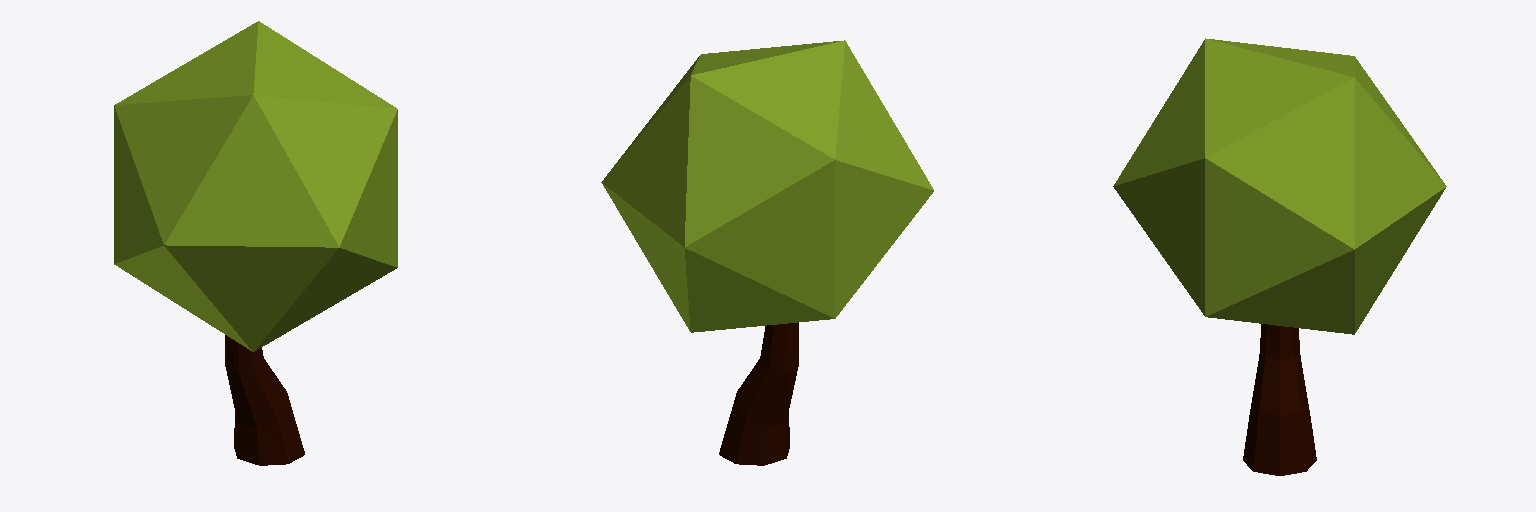
Rendered from Bush3.obj.
3 views of the same model, side by side, from view 1: azimuth 30°, elevation 25°; view 2: azimuth 150°, elevation 25°; view 3: azimuth 270°, elevation 25° (orthographic).
Visible parts, largest first — view 1: Bush3_Icosphere.004; view 2: Bush3_Icosphere.004; view 3: Bush3_Icosphere.004.
Part boxes in pixels (x1,y1,x2,y2): Bush3_Icosphere.004: (114, 21, 397, 465); Bush3_Icosphere.004: (601, 40, 933, 465); Bush3_Icosphere.004: (1113, 38, 1446, 475).
Size of the model in its own units: 0.8552 by 1.25 by 0.9562.